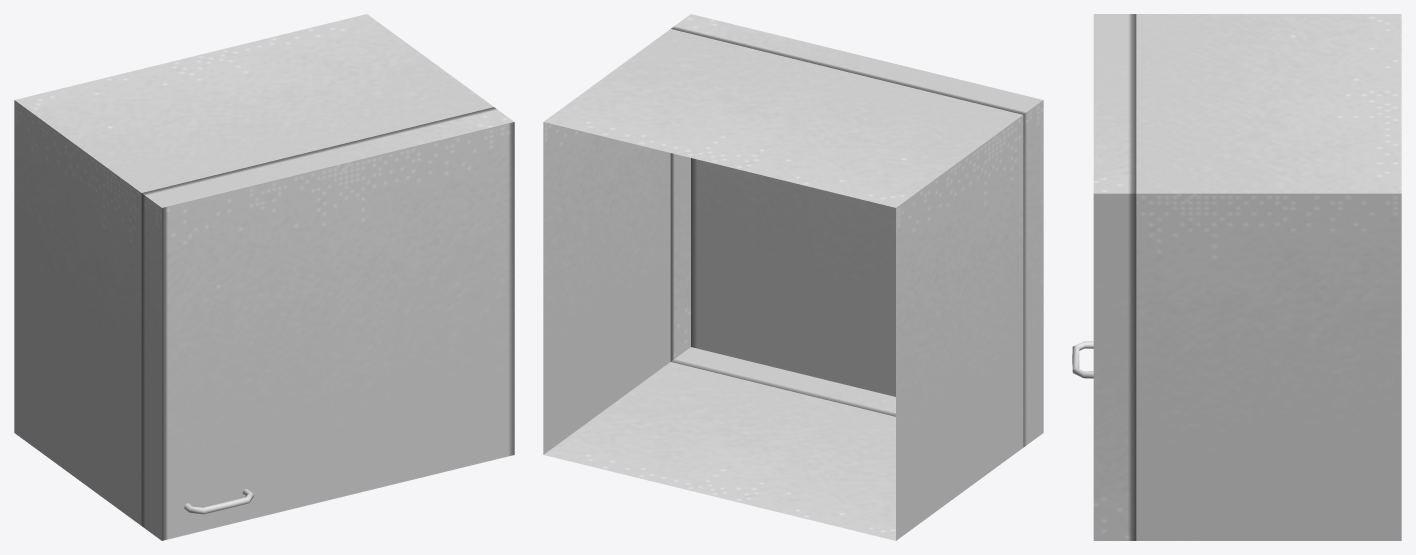
File: Kitchen_Cabinet_Small_Right.fbx
3 renders of one model, left to right at view 1: azimuth 30°, elevation 25°; view 2: azimuth 150°, elevation 25°; view 3: azimuth 270°, elevation 25°, orthographic. The views are drawn at different scales.
Parts seen in each view (by area): view 1: Cuisine_Comptoir_Gauche.018; view 2: Cuisine_Comptoir_Gauche.018; view 3: Cuisine_Comptoir_Gauche.018.
Boxes of the visible parts, bbox=[...] form: Cuisine_Comptoir_Gauche.018: bbox=[14, 14, 514, 540]; Cuisine_Comptoir_Gauche.018: bbox=[543, 14, 1043, 540]; Cuisine_Comptoir_Gauche.018: bbox=[1072, 14, 1401, 540].
Size of the model in its own units: 69.88 by 63.08 by 54.14.
